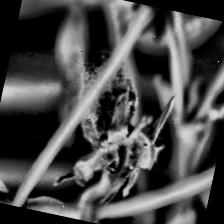Gray Mold: (50, 44, 182, 216)
